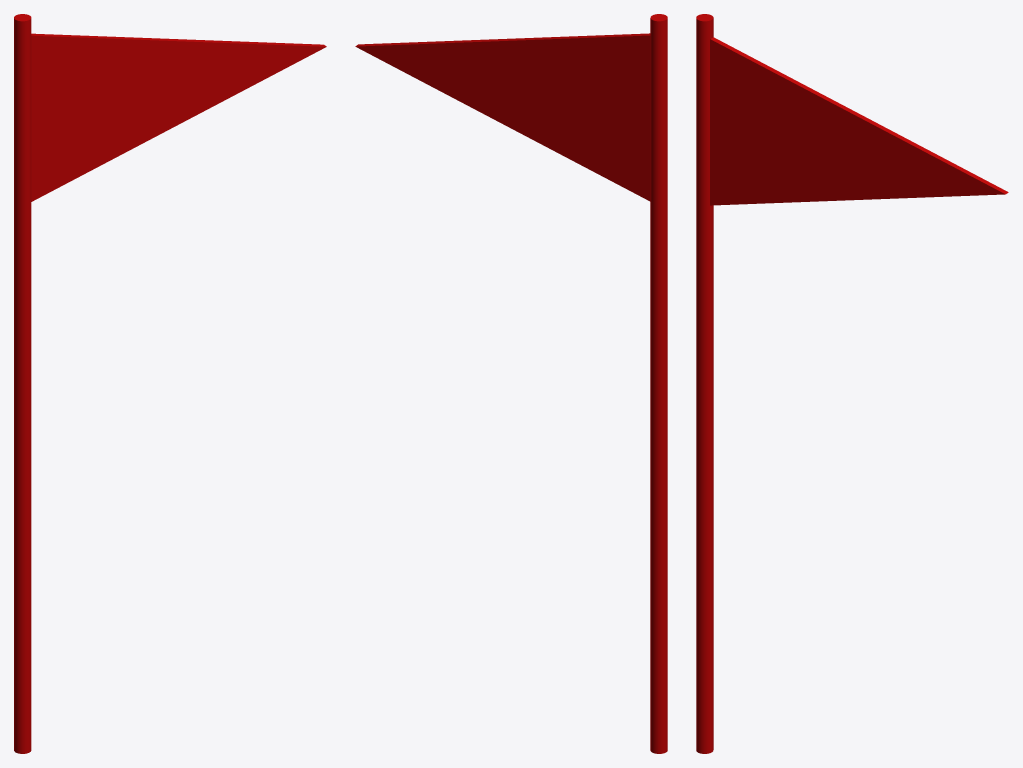
File: SlalomSign.fbx
3 renders of one model, left to right at view 1: azimuth 30°, elevation 25°; view 2: azimuth 150°, elevation 25°; view 3: azimuth 330°, elevation 25°, orthographic.
Visible parts, largest first — view 1: SlalomFlag, SlalomPole; view 2: SlalomFlag, SlalomPole; view 3: SlalomFlag, SlalomPole.
Boxes of the visible parts, x1,y1,x2,y2 form: SlalomFlag: (31, 33, 326, 201); SlalomPole: (14, 14, 31, 753); SlalomFlag: (355, 33, 650, 201); SlalomPole: (650, 14, 667, 753); SlalomFlag: (710, 37, 1008, 205); SlalomPole: (696, 14, 713, 753).
Bounding box in the file's own units: 2.85 × 6.44 × 0.139.
